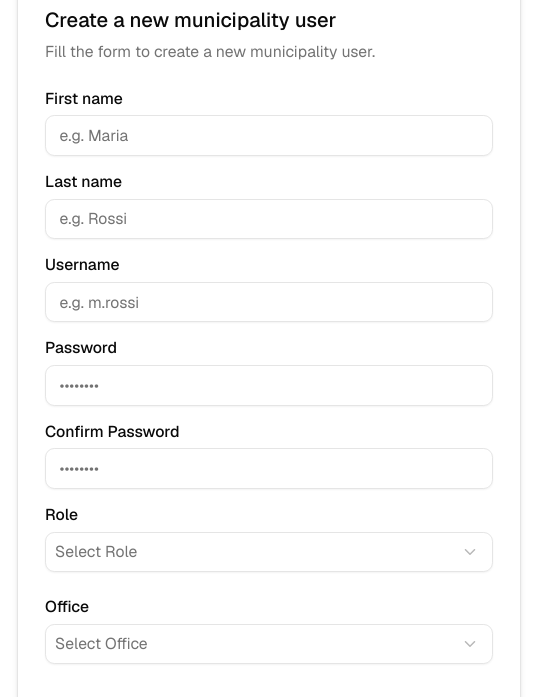
Scenario: MunicipalityUserForm › should allow selecting a company
This screenshot has width=539, height=697.
Click the dropdown labelled "Select Role": (96, 551) [45,532,493,572]
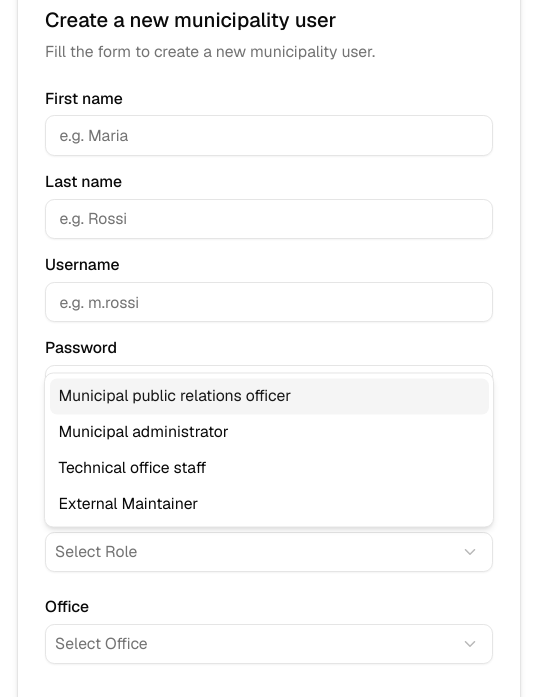
Click the option "External Maintainer": (128, 503) [58,493,198,514]
(page scrolled)
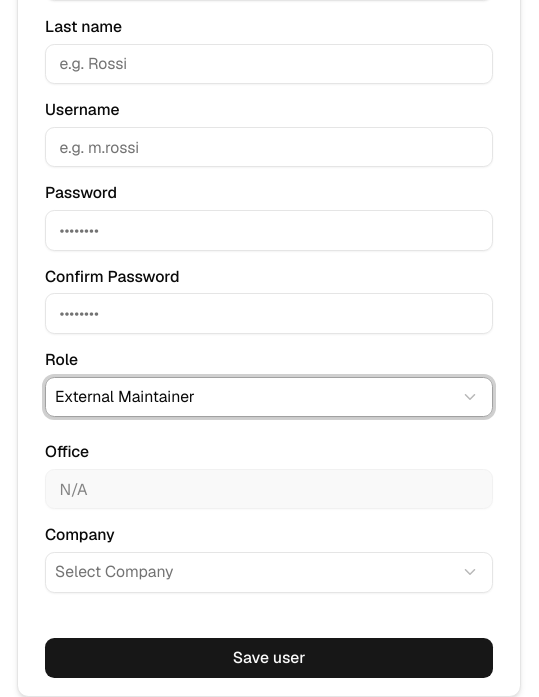
Expected: the dropdown labelled "Select Company" is shown
Click the dropdown labelled "Select Company": (114, 572) [45,552,493,592]
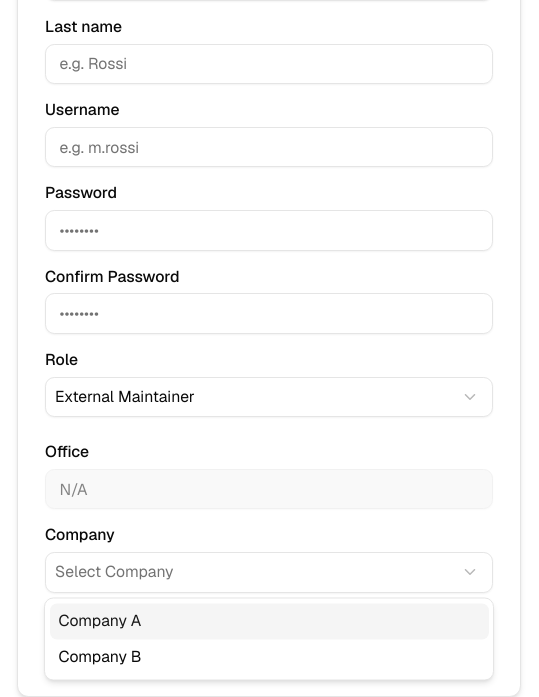
Click the option "Company A": (100, 620) [50,603,488,639]
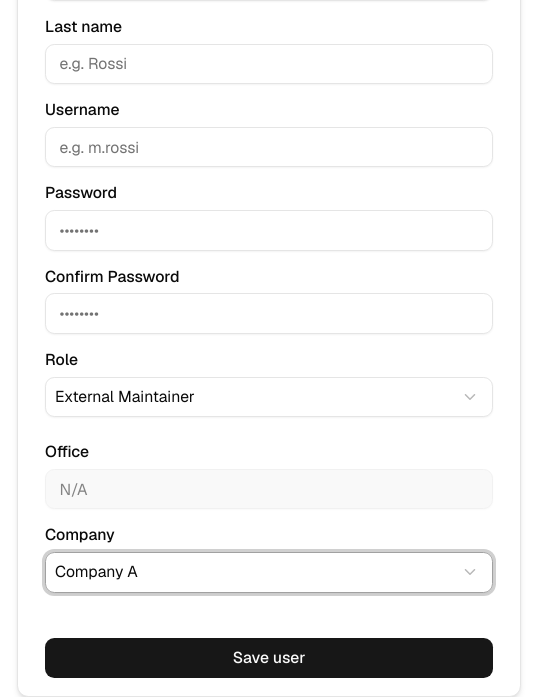
Expected: the text "Company A" is shown, [55,561,138,584]
